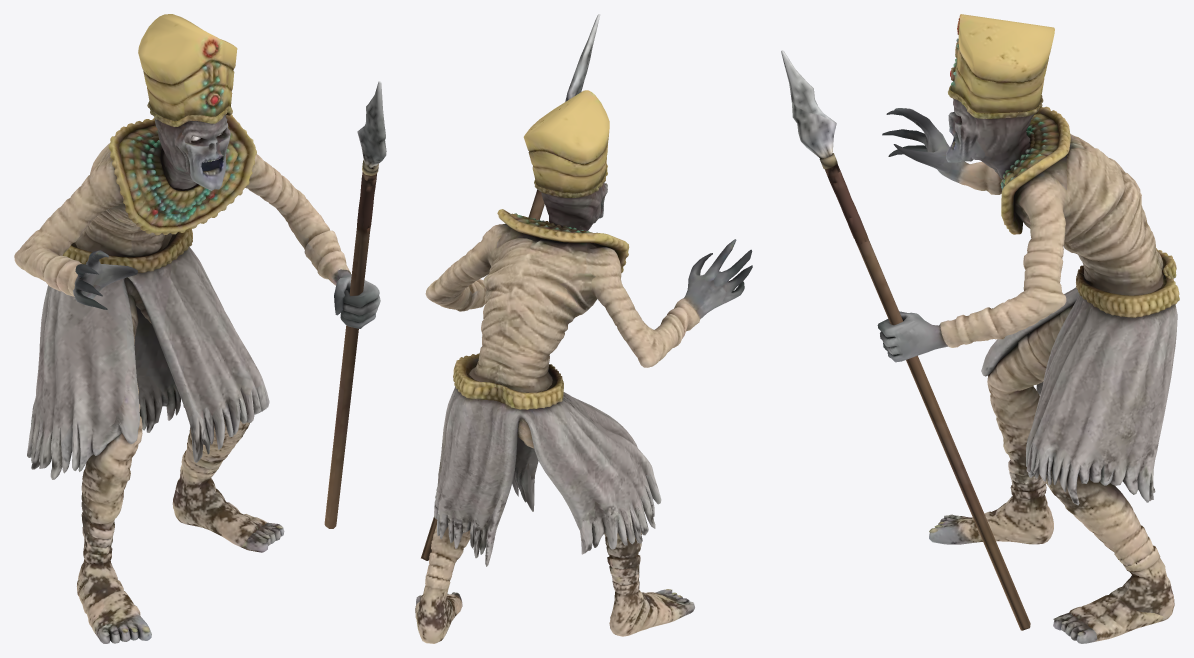
File: MZ4250 - Mummy Lord_Spear.glb
The picture shows the model from 3 angles, left to right: view 1: azimuth 30°, elevation 25°; view 2: azimuth 150°, elevation 25°; view 3: azimuth 270°, elevation 25°; orthographic projection. The views are drawn at different scales.
Parts seen in each view (by area): view 1: Head.002; view 2: Head.002; view 3: Head.002.
Part boxes in pixels (x1,y1,x2,y2): Head.002: (14, 14, 386, 643); Head.002: (415, 14, 752, 643); Head.002: (781, 14, 1179, 643).
Bounding box in the file's own units: 302 × 530 × 336.
2 materials, 2 textured.
